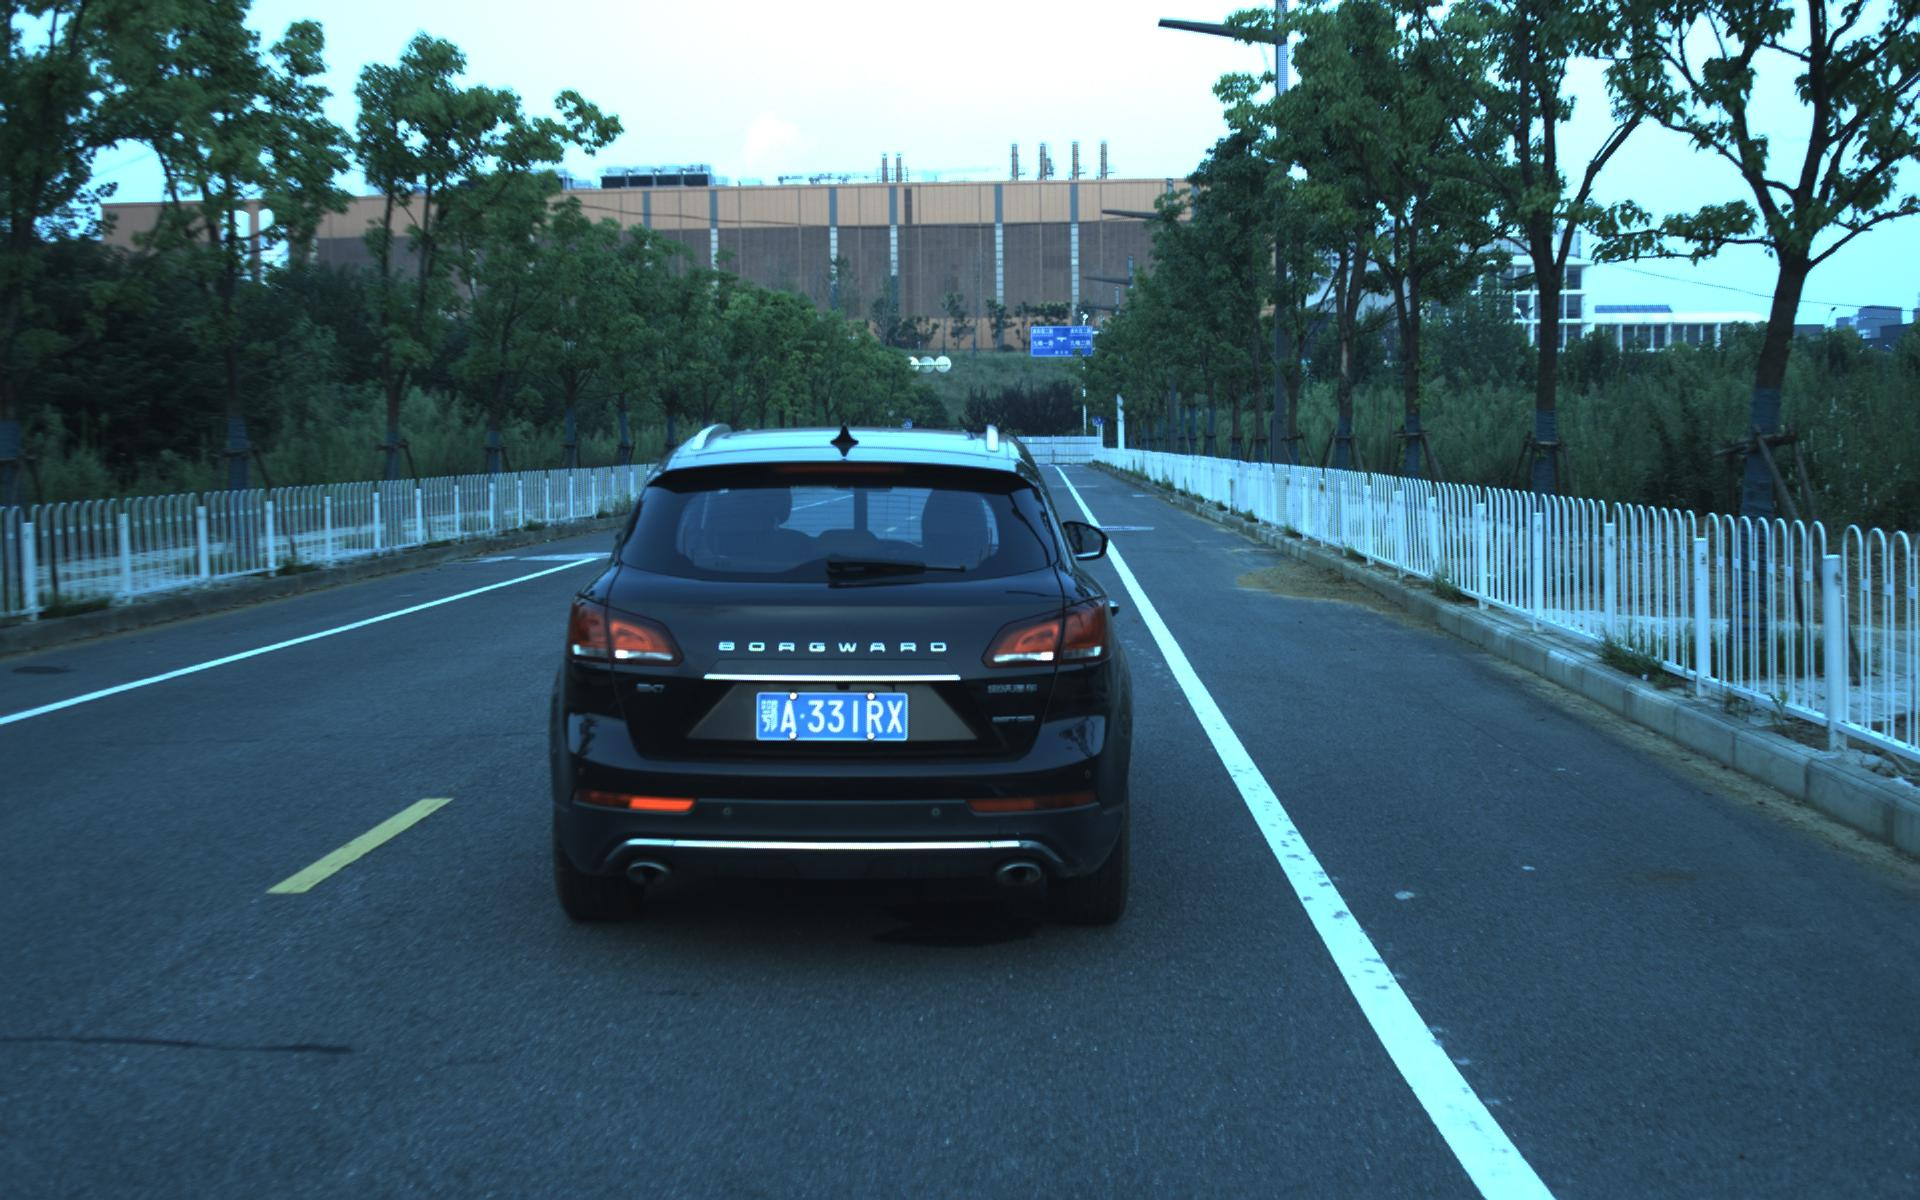Car: (542, 412, 1138, 924)
